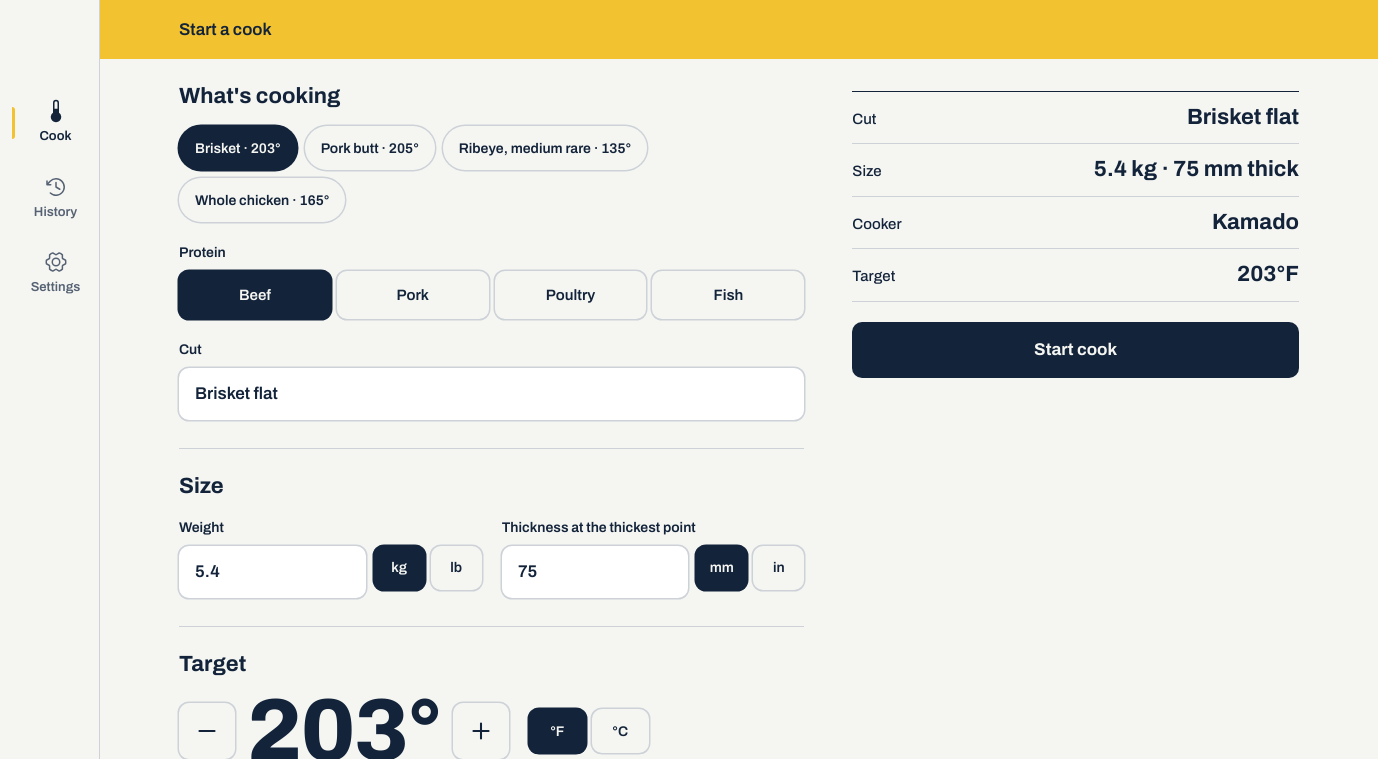
Scenario: SetupScreen › steps the target one degree at a time
Click the button named "Raise target by one degree": (481, 731) [453,703,509,758]
(page scrolled)
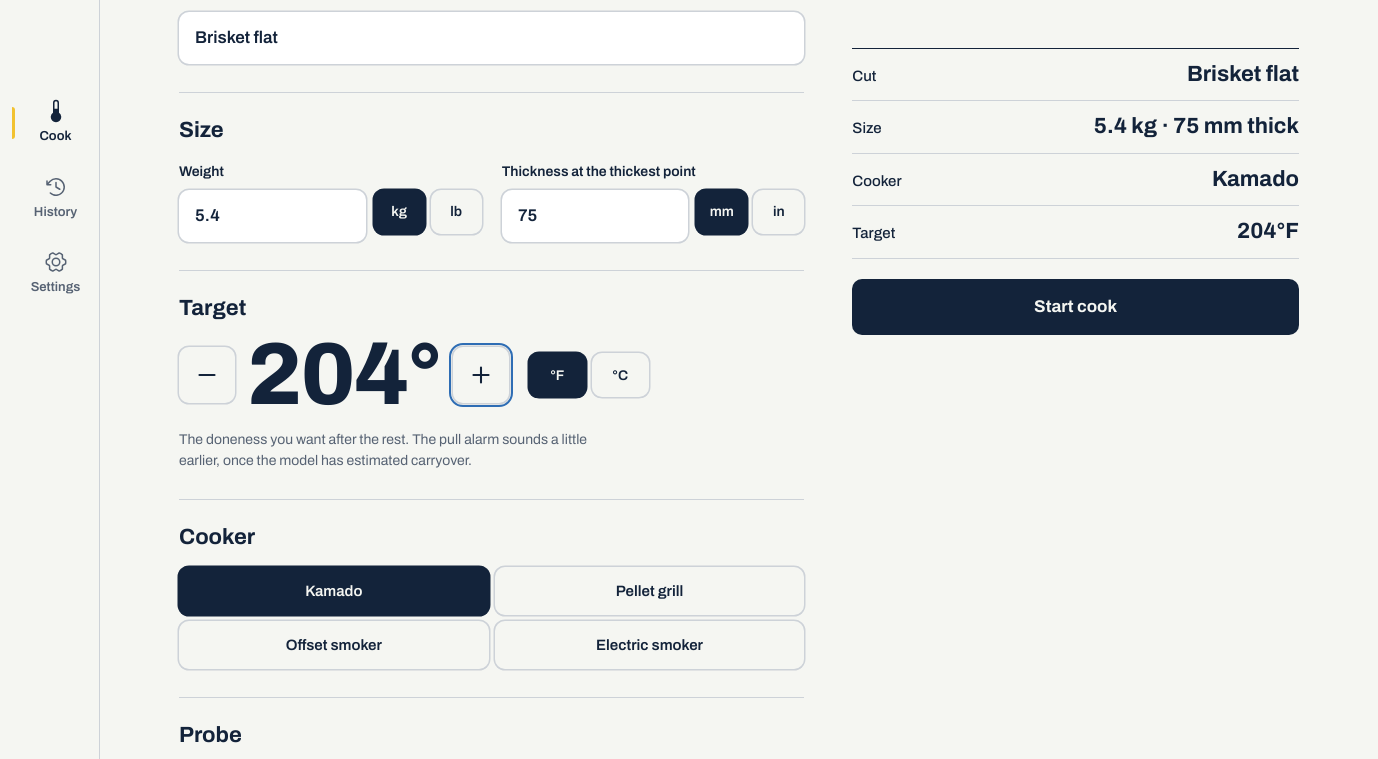
Now the text named "Target temperature" reads "204°", box [247,338,441,413]
